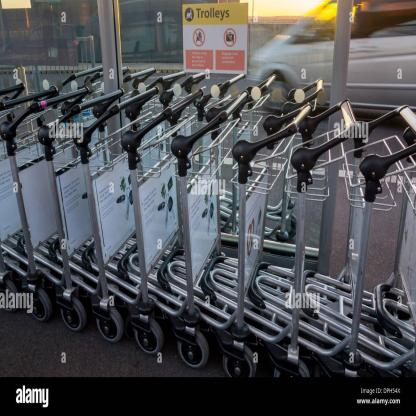airport-trolley: (248, 103, 416, 378), (202, 97, 359, 378), (155, 101, 312, 370), (118, 89, 248, 357), (80, 87, 204, 344), (48, 84, 160, 334), (13, 85, 123, 332)
